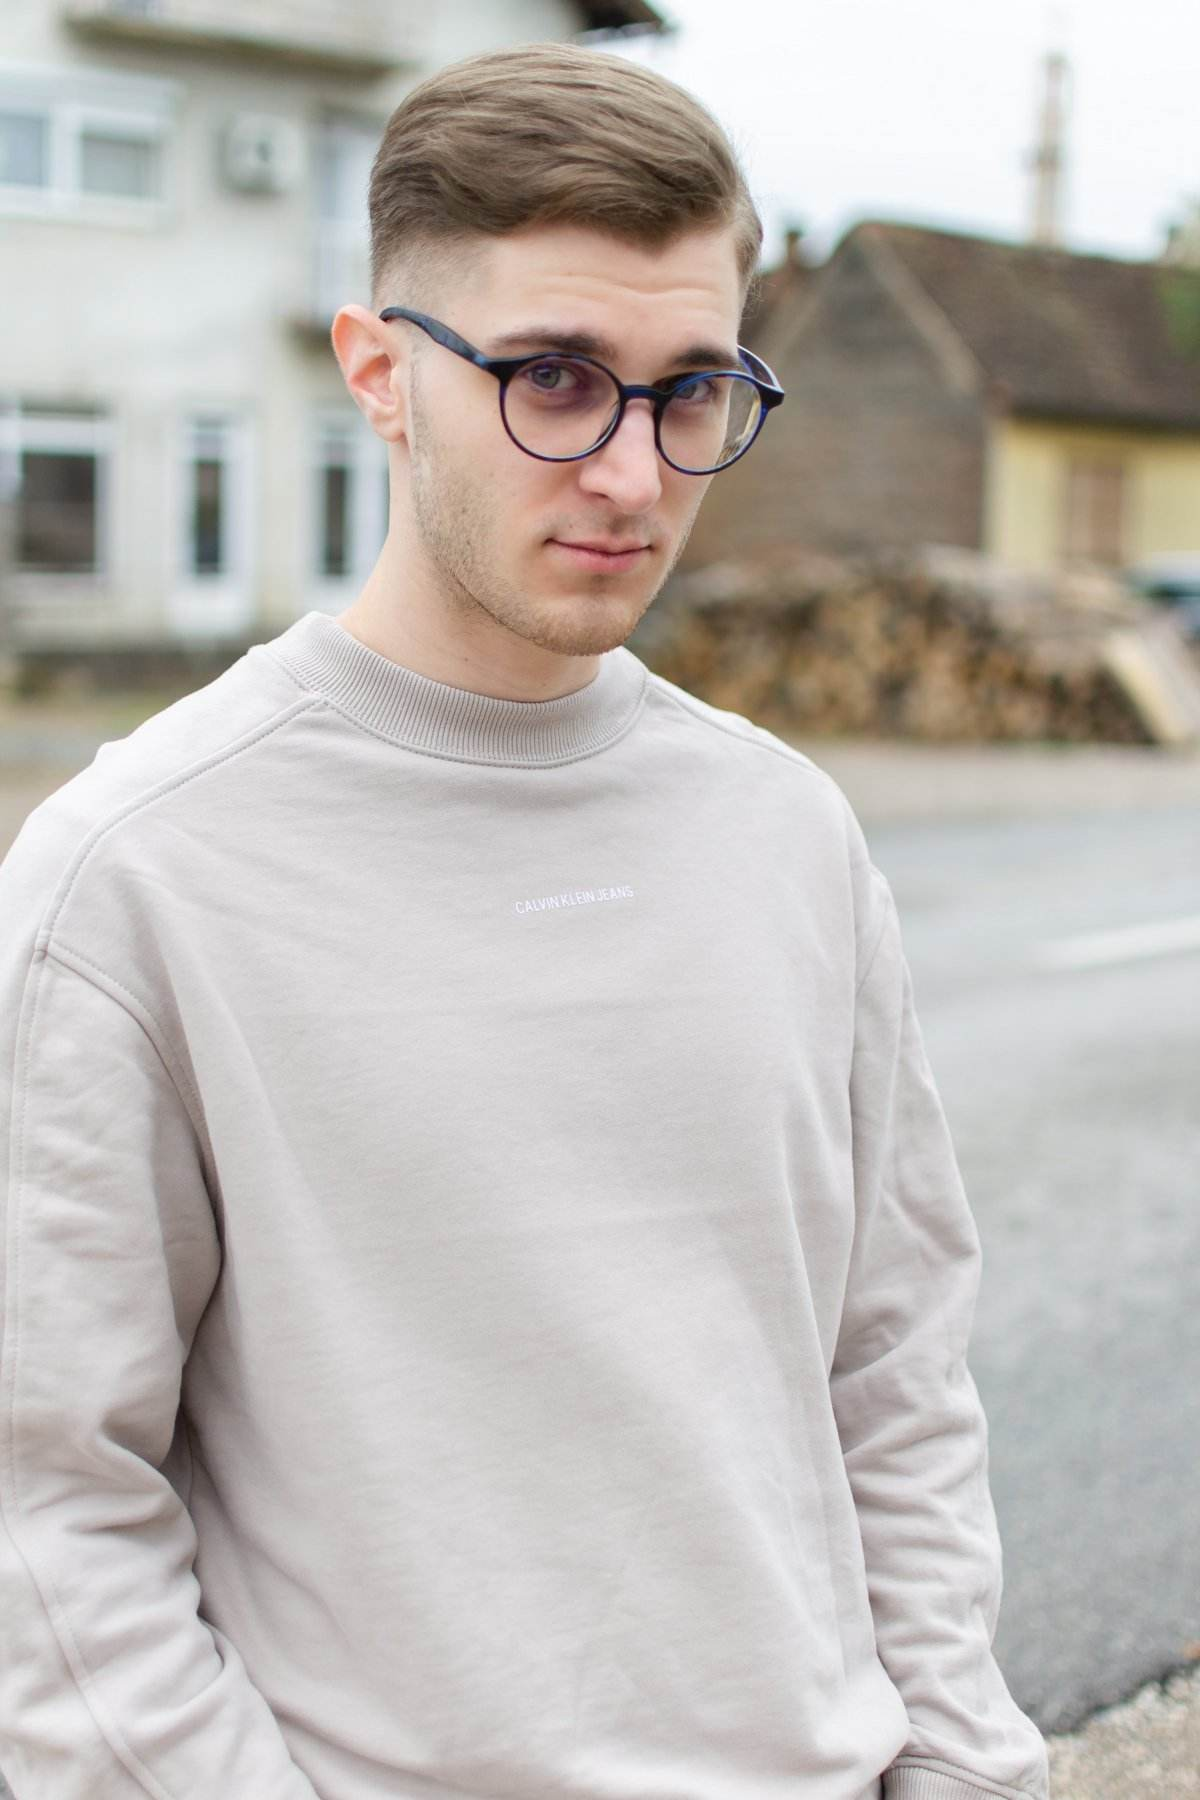person: (127, 100, 1118, 1650)
